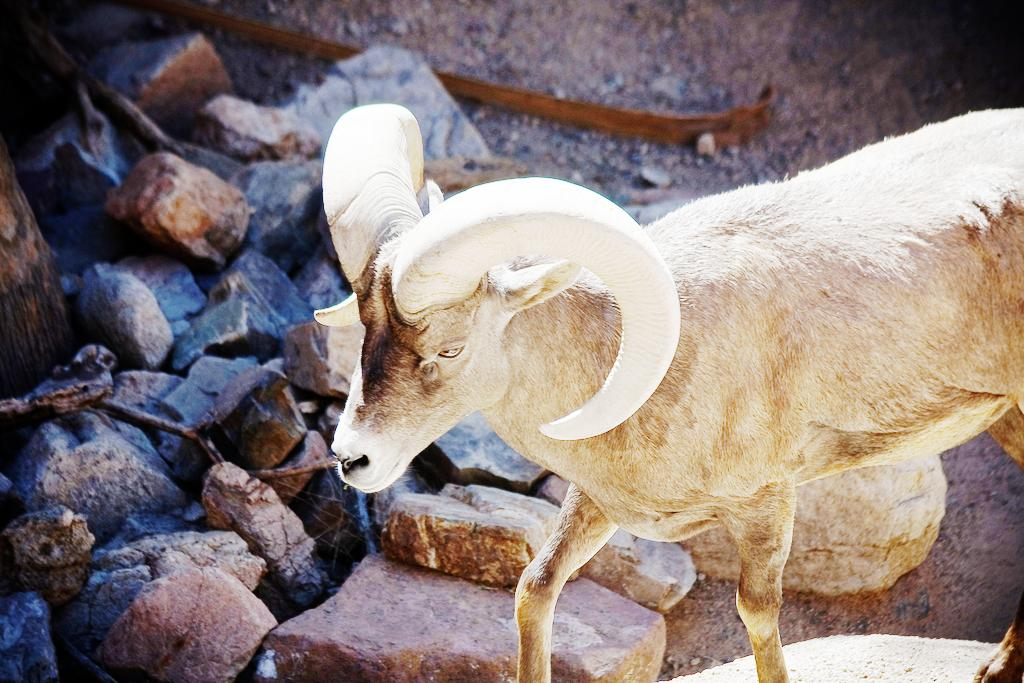Sheep: (306, 104, 1022, 680)
